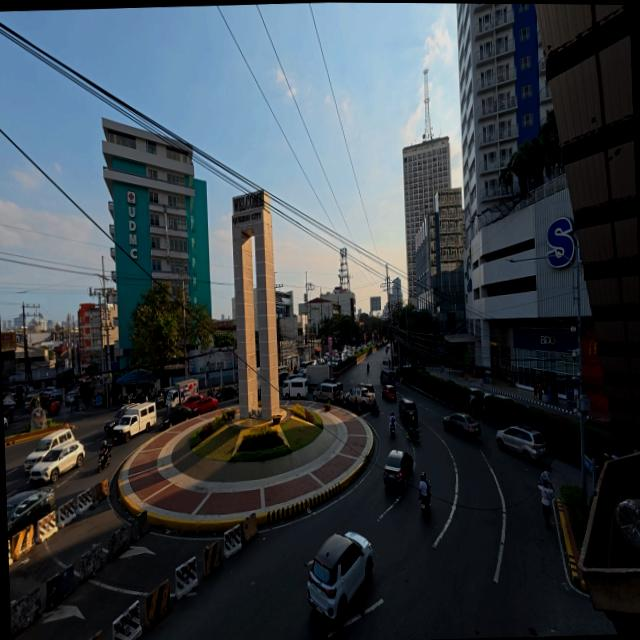car: (496, 423, 548, 463), (380, 451, 412, 492), (440, 411, 480, 442)
vans: (314, 378, 340, 401)
